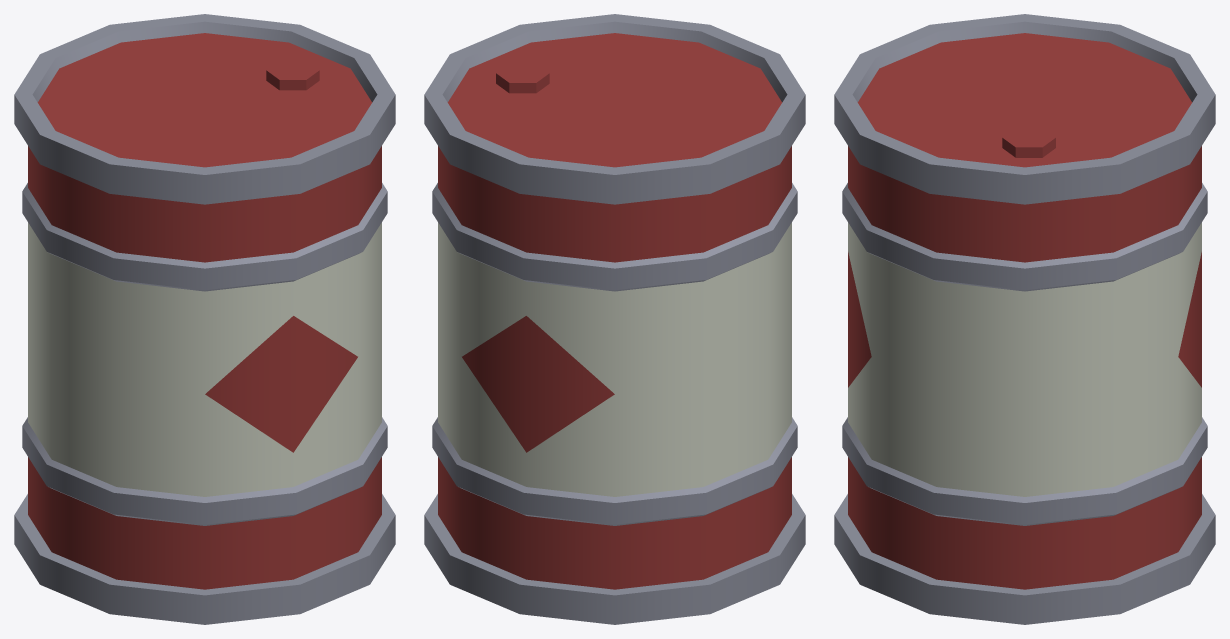
File: ExplodingBarrel.glb
3 renders of one model, left to right at view 1: azimuth 30°, elevation 25°; view 2: azimuth 150°, elevation 25°; view 3: azimuth 270°, elevation 25°, orthographic.
Visible parts, largest first — view 1: ExplodingBarrel; view 2: ExplodingBarrel; view 3: ExplodingBarrel.
Boxes of the visible parts, x1,y1,x2,y2 form: ExplodingBarrel: (14, 14, 395, 624); ExplodingBarrel: (424, 14, 805, 624); ExplodingBarrel: (834, 14, 1215, 624).
Size of the model in its own units: 0.785 by 1.02 by 0.785.
